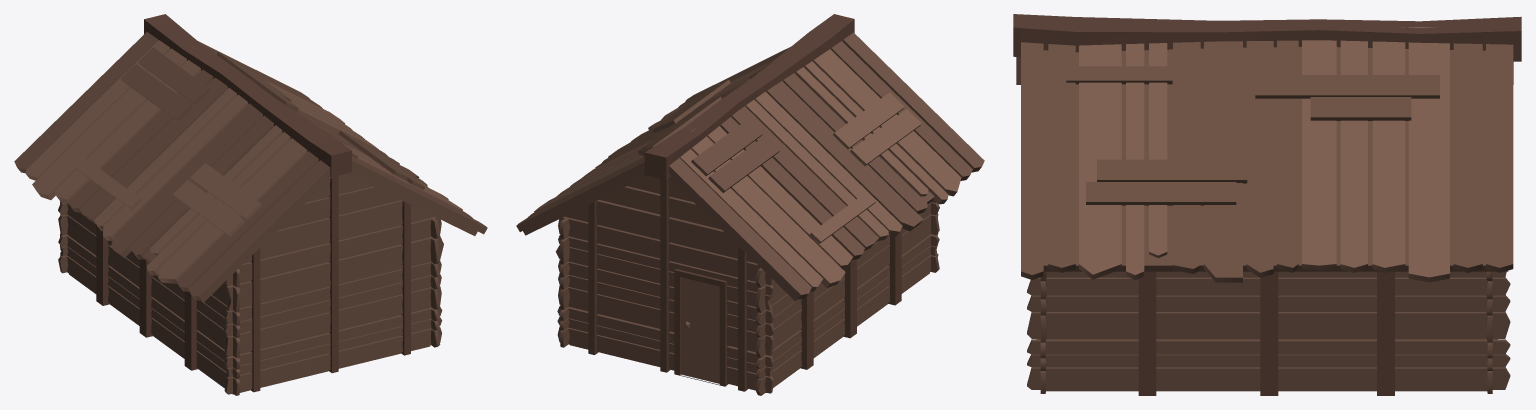
The model's file is 小木屋.fbx.
The picture shows the model from 3 angles, left to right: view 1: azimuth 30°, elevation 25°; view 2: azimuth 150°, elevation 25°; view 3: azimuth 270°, elevation 25°; orthographic projection. The views are drawn at different scales.
Parts seen in each view (by area): view 1: pCube105, pCube33, pCube36, pCube99, pCube72, pCube131, pCube3, pCube95, pCube104, pCube39, pCube94, pCube129 (+37 smaller); view 2: pCube105, pCube121, pCube99, pCube68, pCube129, pCube56, pCube95, pCube104, pCube131, pCube52, pCube94, pCube98 (+40 smaller); view 3: pCube105, polySurface21, pCube45, pCube47, pCube90, pCube80, pCube84, pCube43, pCube42, pCube91, pCube46, pCube87 (+21 smaller).
Boxes of the visible parts, left/top/right/bottom form: pCube105: left=144, top=14, right=351, bottom=177; pCube33: left=226, top=236, right=443, bottom=311; pCube36: left=224, top=286, right=441, bottom=356; pCube99: left=111, top=103, right=262, bottom=257; pCube72: left=245, top=200, right=434, bottom=262; pCube131: left=188, top=160, right=330, bottom=300; pCube3: left=225, top=217, right=441, bottom=285; pCube95: left=32, top=45, right=194, bottom=199; pCube104: left=158, top=138, right=307, bottom=283; pCube39: left=224, top=327, right=441, bottom=394; pCube94: left=80, top=77, right=227, bottom=222; pCube129: left=14, top=32, right=157, bottom=173; pCube105: left=644, top=14, right=854, bottom=179; pCube121: left=674, top=269, right=728, bottom=386; pCube99: left=767, top=81, right=923, bottom=231; pCube68: left=565, top=200, right=755, bottom=263; pCube129: left=669, top=158, right=811, bottom=299; pCube56: left=558, top=216, right=772, bottom=285; pCube95: left=691, top=127, right=845, bottom=287; pCube104: left=814, top=49, right=961, bottom=196; pCube131: left=843, top=32, right=984, bottom=172; pCube52: left=755, top=213, right=938, bottom=357; pCube94: left=732, top=106, right=878, bottom=250; pCube98: left=755, top=92, right=902, bottom=236; pCube105: left=1013, top=14, right=1521, bottom=61; polySurface21: left=1043, top=47, right=1508, bottom=271; pCube45: left=1027, top=312, right=1510, bottom=338; pCube47: left=1027, top=367, right=1510, bottom=389; pCube90: left=1408, top=27, right=1449, bottom=282; pCube80: left=1079, top=44, right=1121, bottom=279; pCube84: left=1204, top=41, right=1242, bottom=282; pCube43: left=1027, top=277, right=1510, bottom=295; pCube42: left=1027, top=295, right=1510, bottom=311; pCube91: left=1453, top=43, right=1482, bottom=272; pCube46: left=1027, top=339, right=1510, bottom=354; pCube87: left=1302, top=40, right=1336, bottom=270.
Size of the model in its own units: 6.82 by 4.86 by 7.34.
